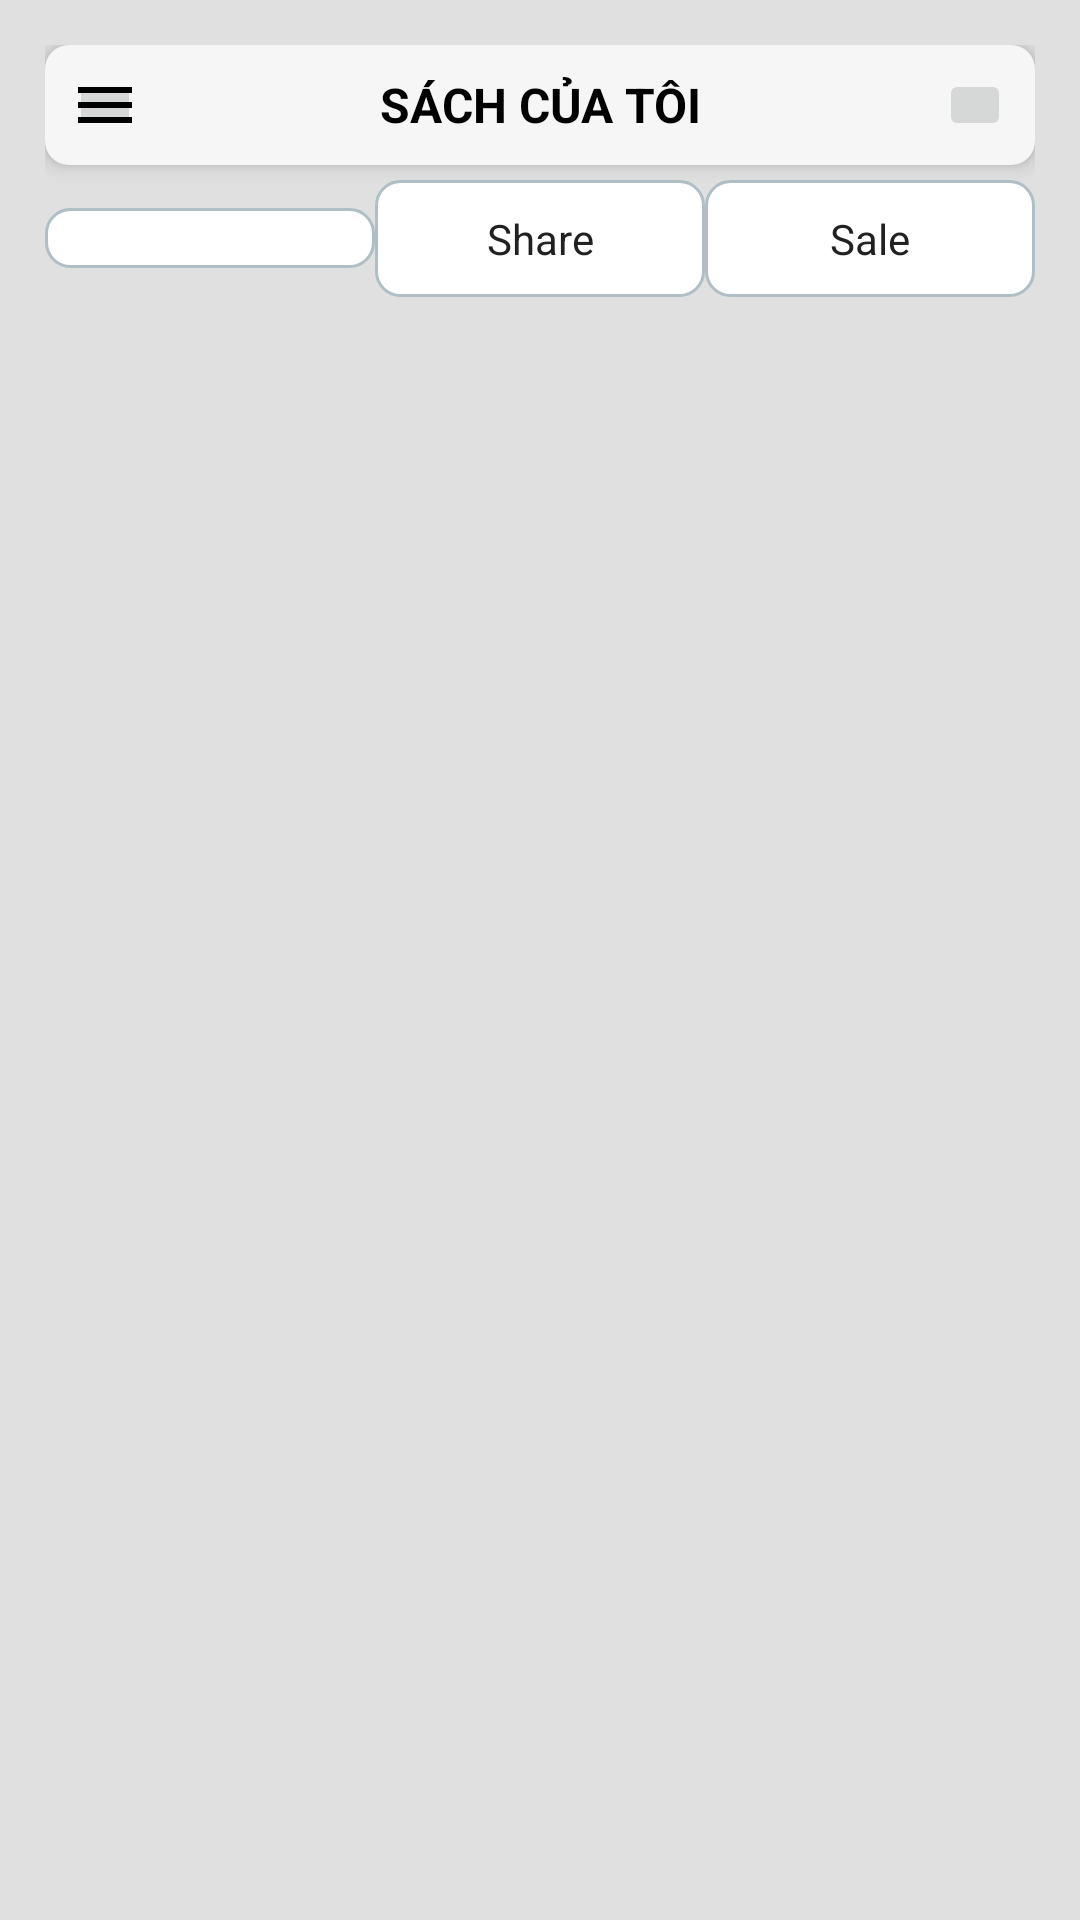

Icon click points for this 1080px×1920px phone screenshot, format [x,y]:
toggle: [105,105]
